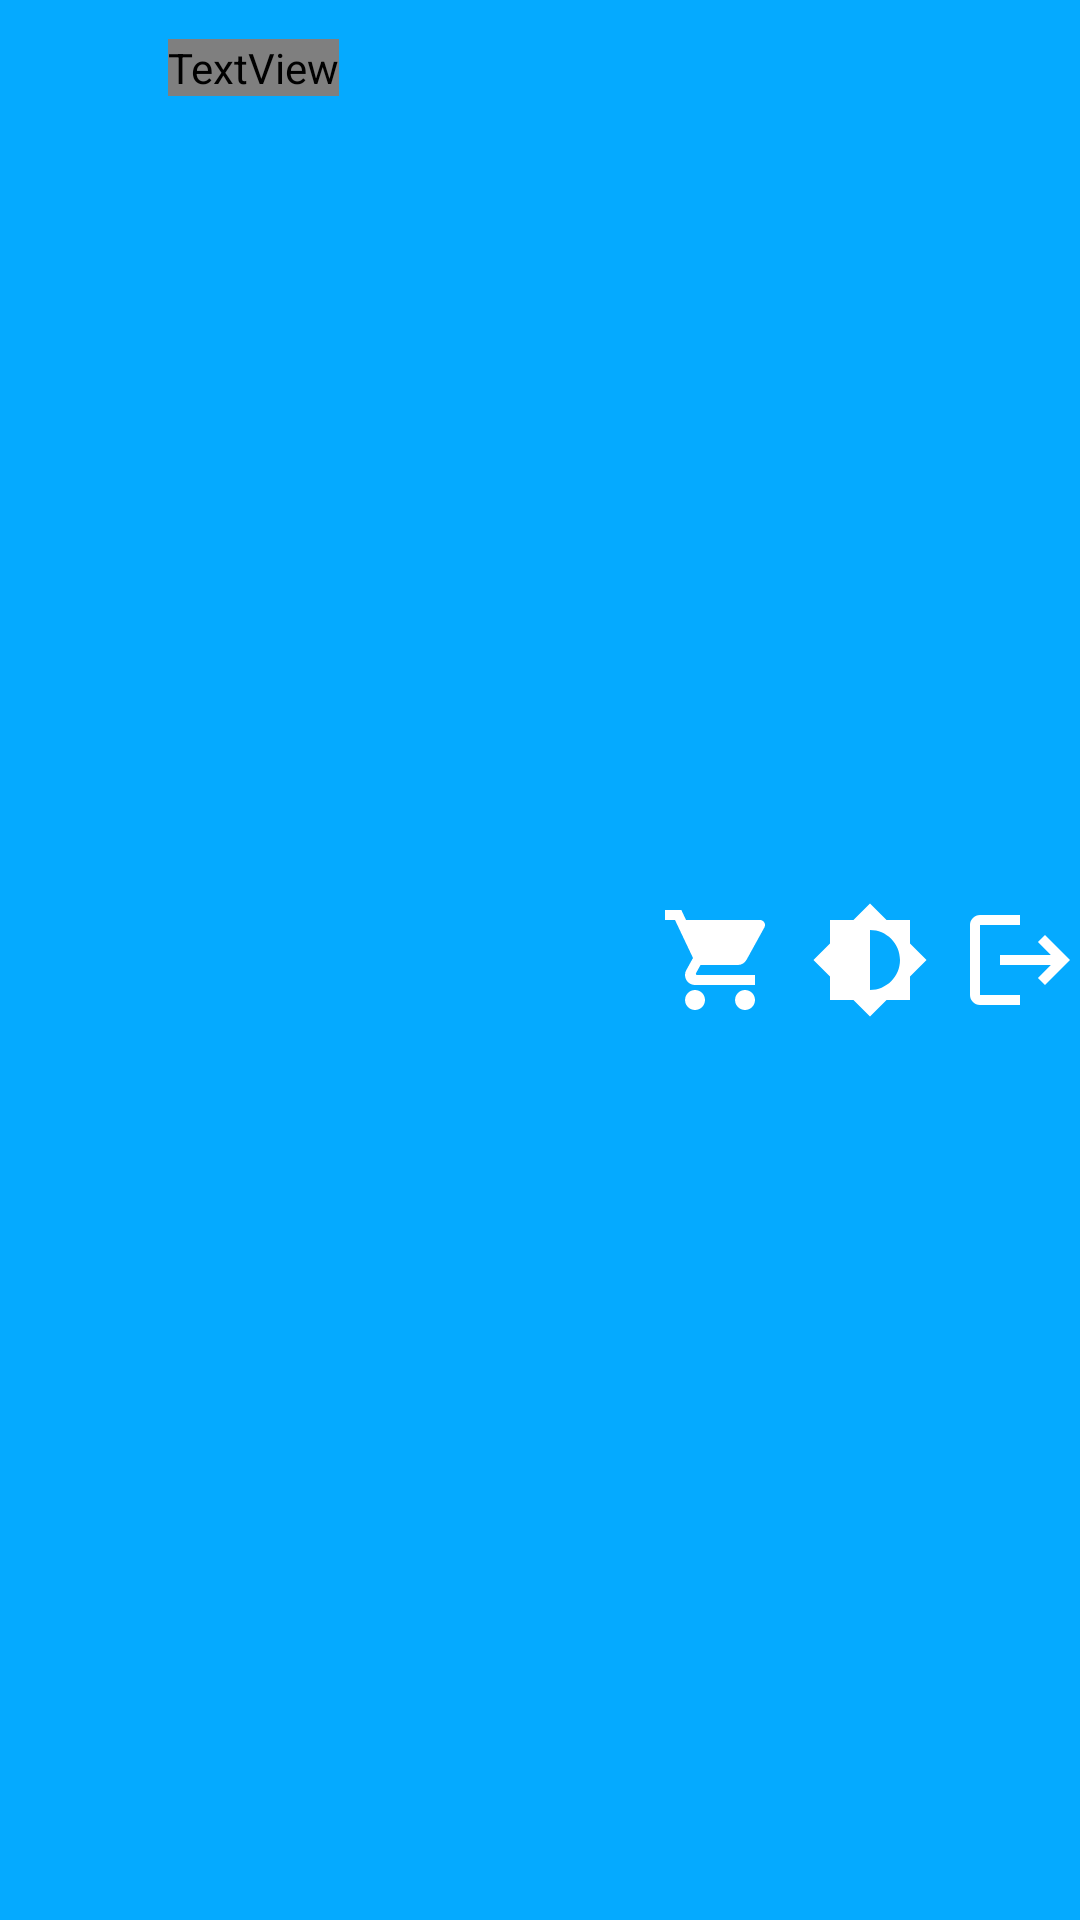

Icon bounding boxes for this 1080px x 1920px phone screenshot, format (x1, y1, x2, y2):
brightness: (813, 903, 927, 1017)
shopping cart: (665, 910, 765, 1010)
